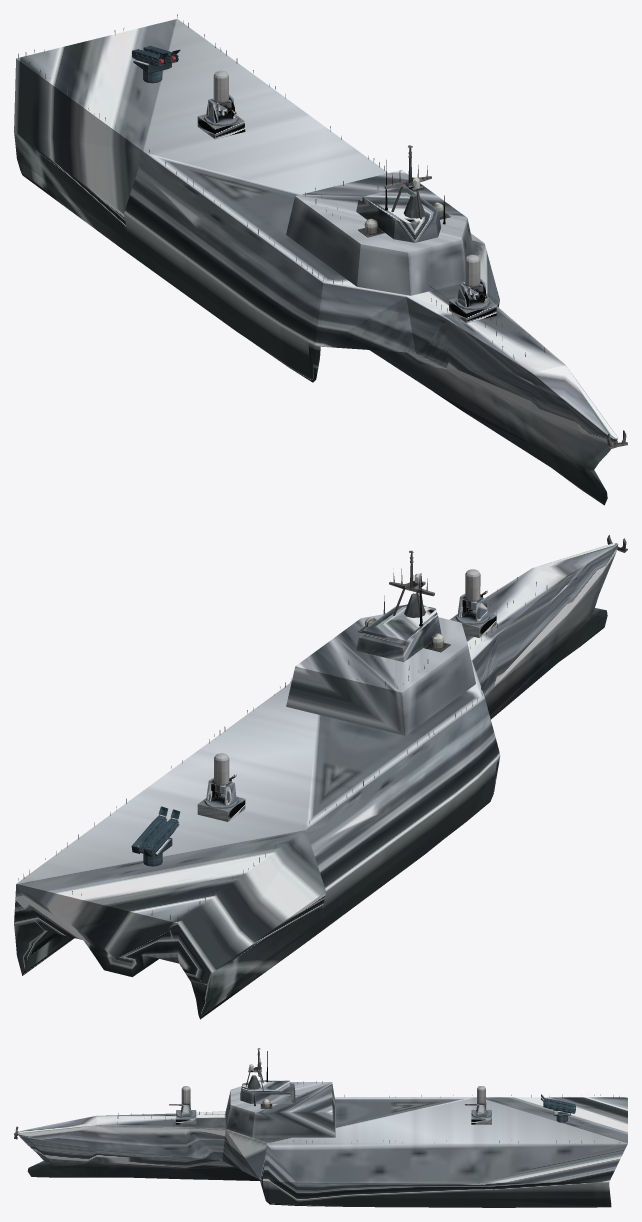
3 renders of one model, top to bottom at view 1: azimuth 30°, elevation 25°; view 2: azimuth 150°, elevation 25°; view 3: azimuth 270°, elevation 25°, orthographic. The views are drawn at different scales.
Parts seen in each view (by area): view 1: Object_4, Object_2, Object_3; view 2: Object_4, Object_2, Object_3; view 3: Object_4, Object_2, Object_3.
Part boxes in pixels (x1=…): Object_4: x1=14, y1=14, x2=627, y2=505; Object_2: x1=197, y1=70, x2=496, y2=323; Object_3: x1=132, y1=46, x2=180, y2=83; Object_4: x1=14, y1=535, x2=627, y2=1019; Object_2: x1=197, y1=569, x2=496, y2=821; Object_3: x1=131, y1=806, x2=180, y2=866; Object_4: x1=14, y1=1048, x2=627, y2=1207; Object_2: x1=169, y1=1086, x2=491, y2=1124; Object_3: x1=541, y1=1094, x2=575, y2=1122.
Size of the model in its own units: 95.04 by 103 by 425.
3 materials, 3 textured.
